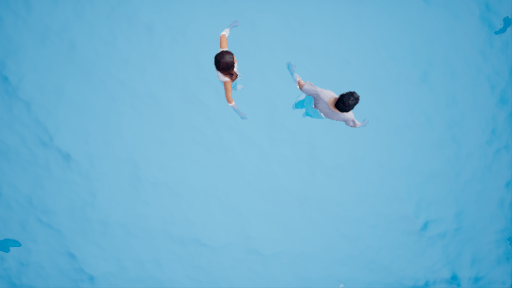person: (289, 56, 376, 136), (212, 14, 265, 128)
